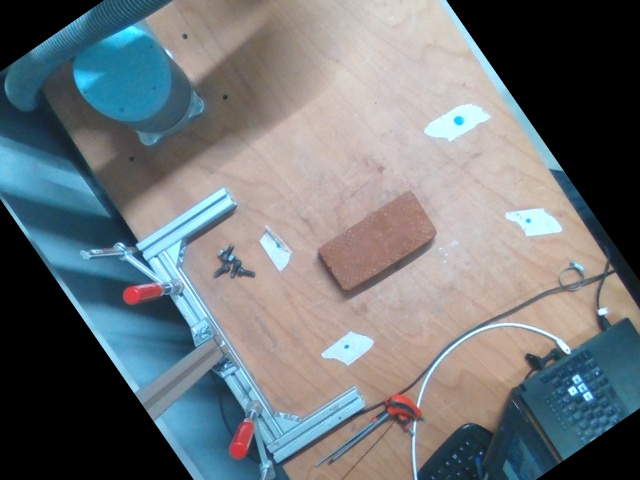brick: (317, 189, 436, 291)
